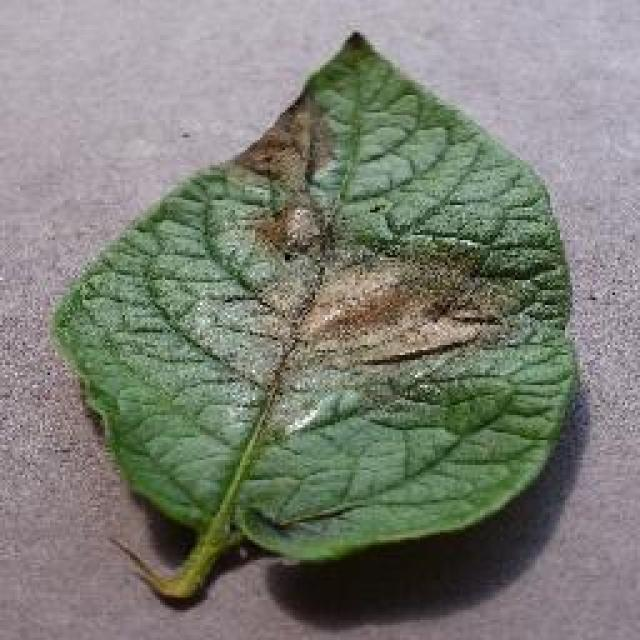late_blight: (48, 28, 582, 602)
